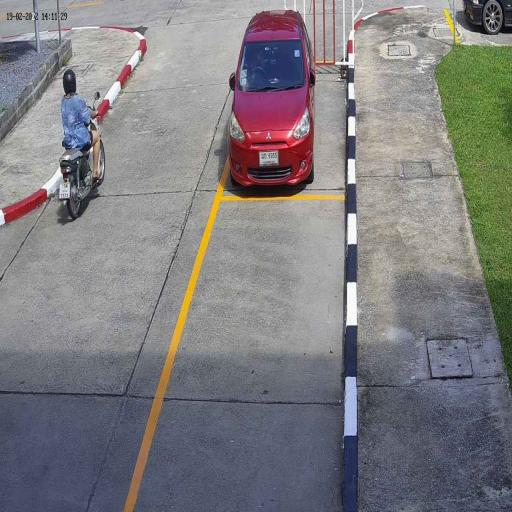car: (226, 6, 317, 192)
motorcycle: (58, 133, 106, 218)
